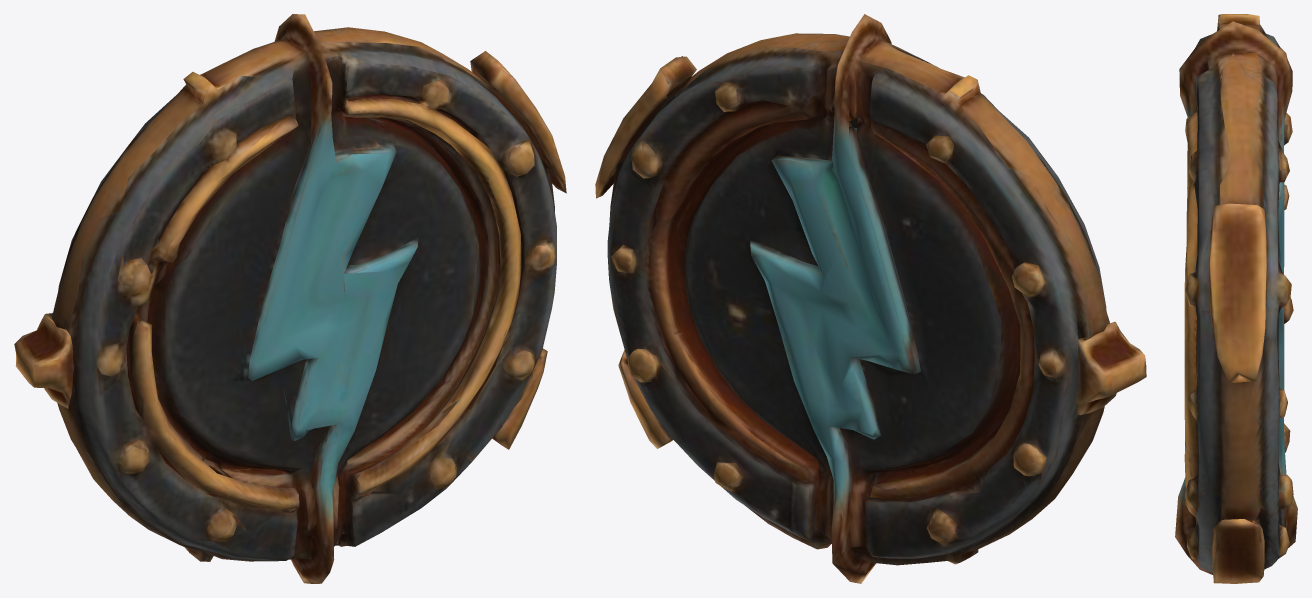
File: rf_overvolt_script.glb
3 views of the same model, side by side, from view 1: azimuth 30°, elevation 25°; view 2: azimuth 150°, elevation 25°; view 3: azimuth 270°, elevation 25° (orthographic).
Visible parts, largest first — view 1: geometry_0; view 2: geometry_0; view 3: geometry_0.
Boxes of the visible parts, <box> form: geometry_0: <box>14,14,566,583</box>; geometry_0: <box>595,14,1146,583</box>; geometry_0: <box>1175,14,1297,583</box>.
Size of the model in its own units: 0.9773 by 0.9931 by 0.1967.
Materials: 1 (1 with a texture image).
